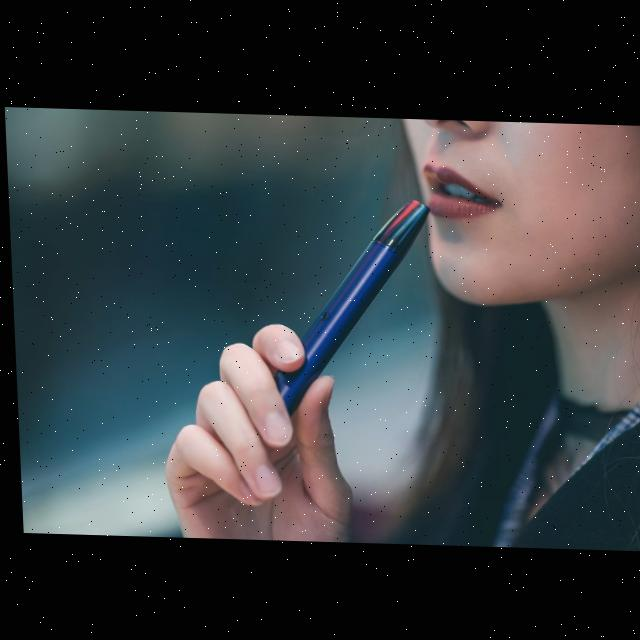vape: (265, 195, 436, 417)
